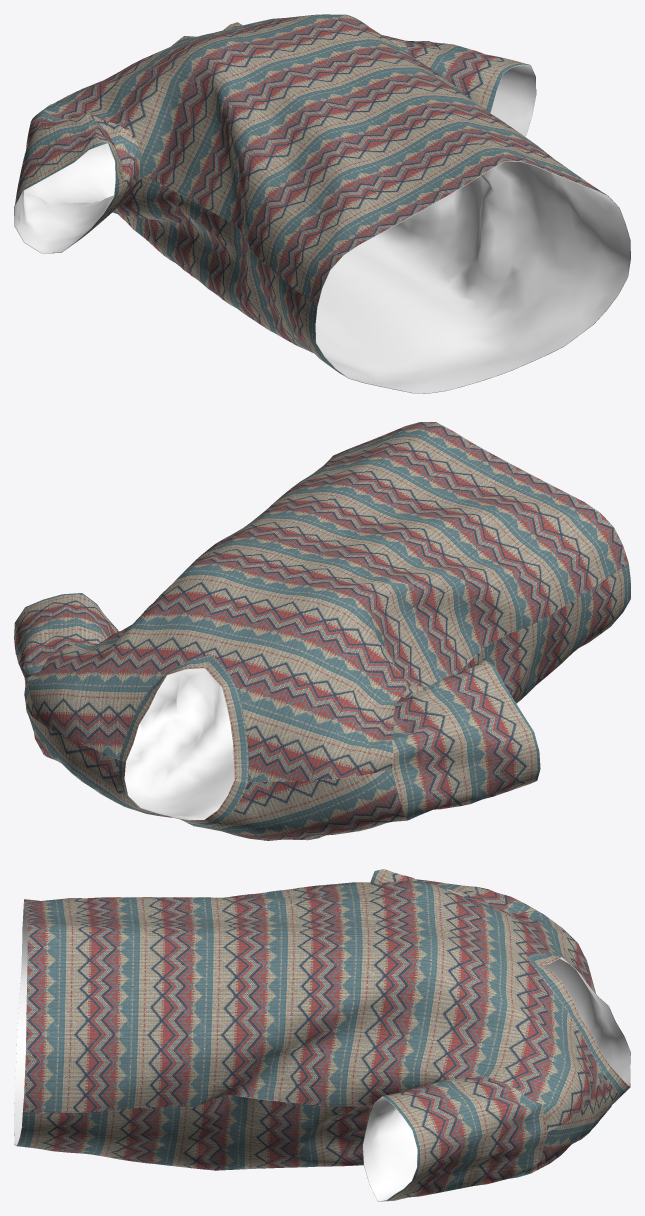
Rendered from female_skn_d5X0hIR.glb.
3 renders of one model, top to bottom at view 1: azimuth 30°, elevation 25°; view 2: azimuth 150°, elevation 25°; view 3: azimuth 270°, elevation 25°, orthographic.
Visible parts, largest first — view 1: female_skn; view 2: female_skn; view 3: female_skn.
Part boxes in pixels (left/top/right/bottom): female_skn: left=14, top=14, right=630, bottom=393; female_skn: left=14, top=422, right=630, bottom=840; female_skn: left=14, top=869, right=630, bottom=1201.
Bounding box in the file's own units: 0.5983 × 0.2387 × 0.6105.
Materials: 2 (1 with a texture image).
